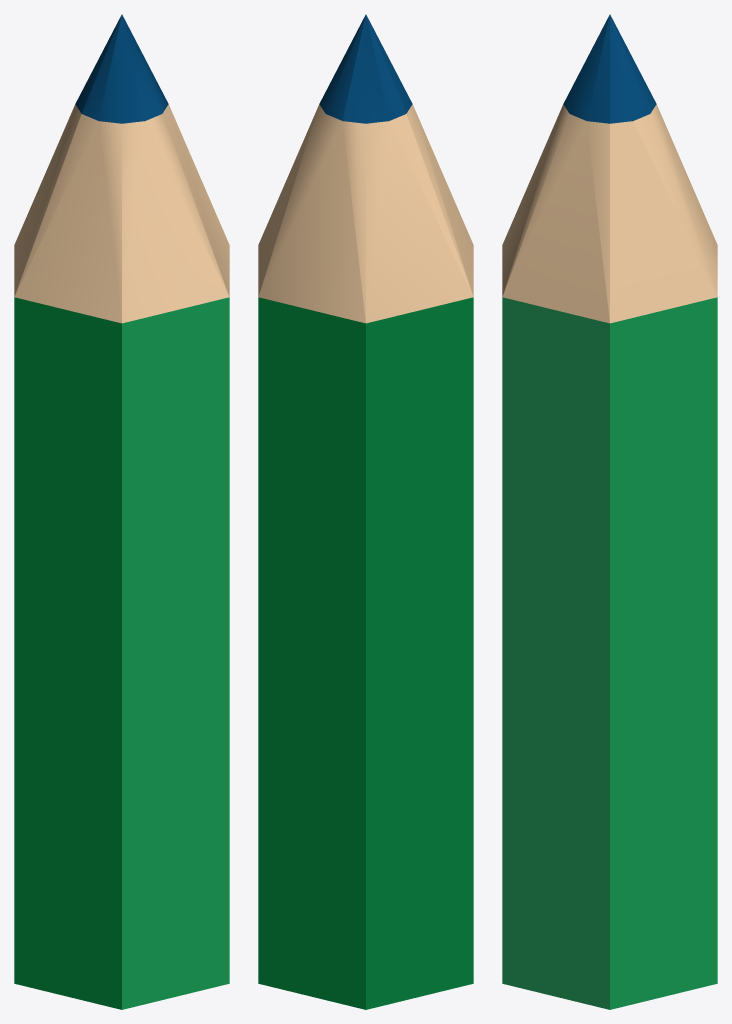
File: pencil.fbx
The picture shows the model from 3 angles, left to right: view 1: azimuth 30°, elevation 25°; view 2: azimuth 150°, elevation 25°; view 3: azimuth 270°, elevation 25°; orthographic projection.
Parts seen in each view (by area): view 1: giantpencil1:Mesh_0161_rip; view 2: giantpencil1:Mesh_0161_rip; view 3: giantpencil1:Mesh_0161_rip.
Boxes of the visible parts, box(x1,y1,x2,y2) form: giantpencil1:Mesh_0161_rip: box(14, 14, 229, 1009); giantpencil1:Mesh_0161_rip: box(258, 14, 473, 1009); giantpencil1:Mesh_0161_rip: box(502, 14, 717, 1009).
Size of the model in its own units: 2 by 8.38 by 1.73.
